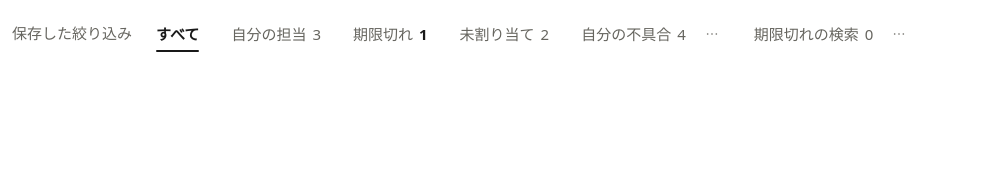
Scenario: BacklogQuickFilters › 利用者が保存した絞り込み › 「…」から名前の変更と削除へ進める
Click the button named "自分の不具合 の操作": x=712, y=34 [694, 16, 730, 52]
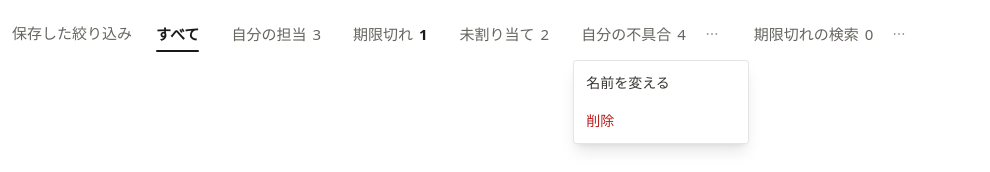
Click the button "削除": x=661, y=121 [578, 103, 744, 139]
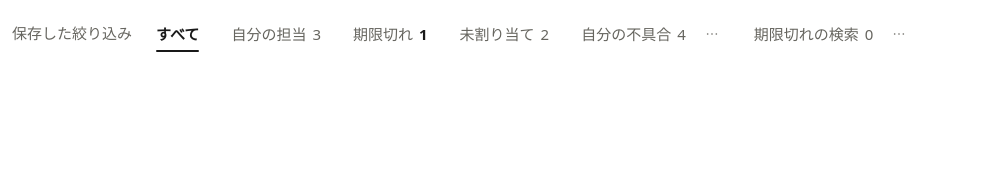
Click the button named "自分の不具合 の操作": x=712, y=34 [694, 16, 730, 52]
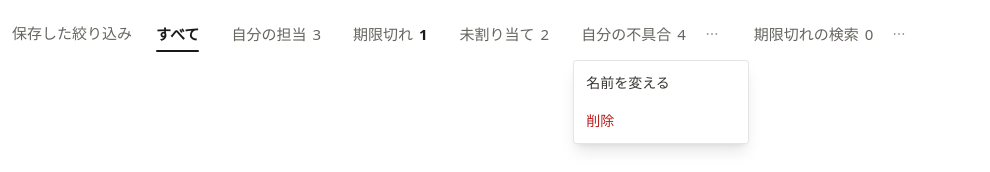
Click the button "名前を変える": x=661, y=83 [578, 65, 744, 101]
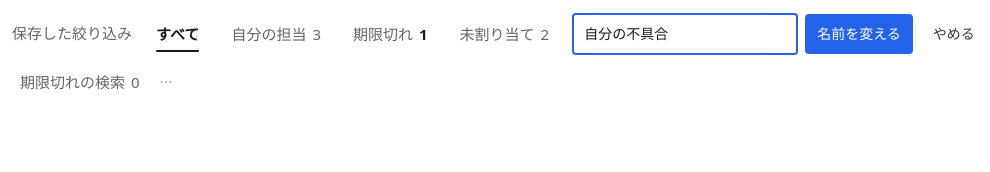
Now the field named "絞り込みの名前" holds "自分の不具合"
Replace the text in the field named "絞り込みの名前" with "自分の不具合（急ぎ）": x=685, y=34 [573, 14, 797, 54]
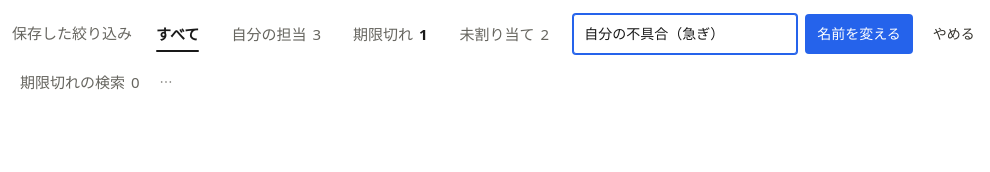
Click the button "名前を変える": x=859, y=34 [805, 14, 913, 54]
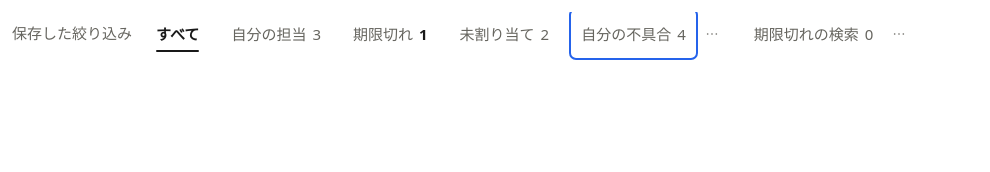
Now the field labelled "絞り込みの名前" is gone
